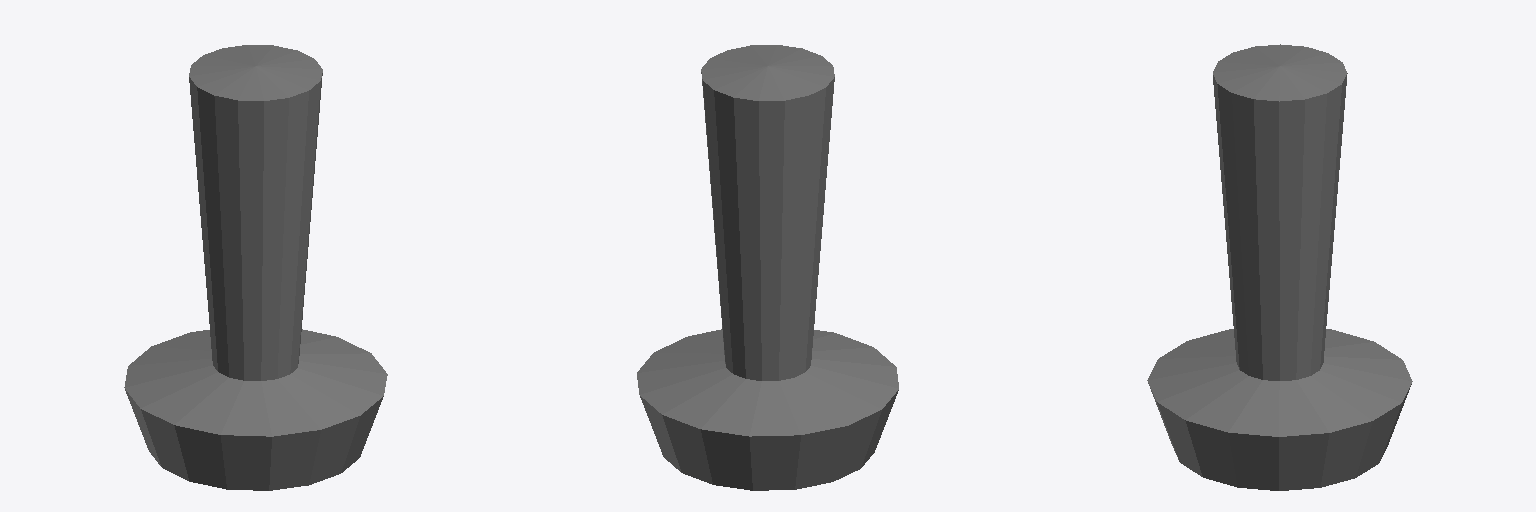
File: joystickpad(F65).obj
The picture shows the model from 3 angles: view 1: azimuth 30°, elevation 25°; view 2: azimuth 150°, elevation 25°; view 3: azimuth 270°, elevation 25°; orthographic projection.
Visible parts, largest first — view 1: Sphere.002; view 2: Sphere.002; view 3: Sphere.002.
Boxes of the visible parts, box(x1,y1,x2,y2) form: Sphere.002: box(124, 45, 387, 490); Sphere.002: box(637, 45, 898, 490); Sphere.002: box(1147, 44, 1412, 490).
Bounding box in the file's own units: 0.4119 × 0.6497 × 0.4119.